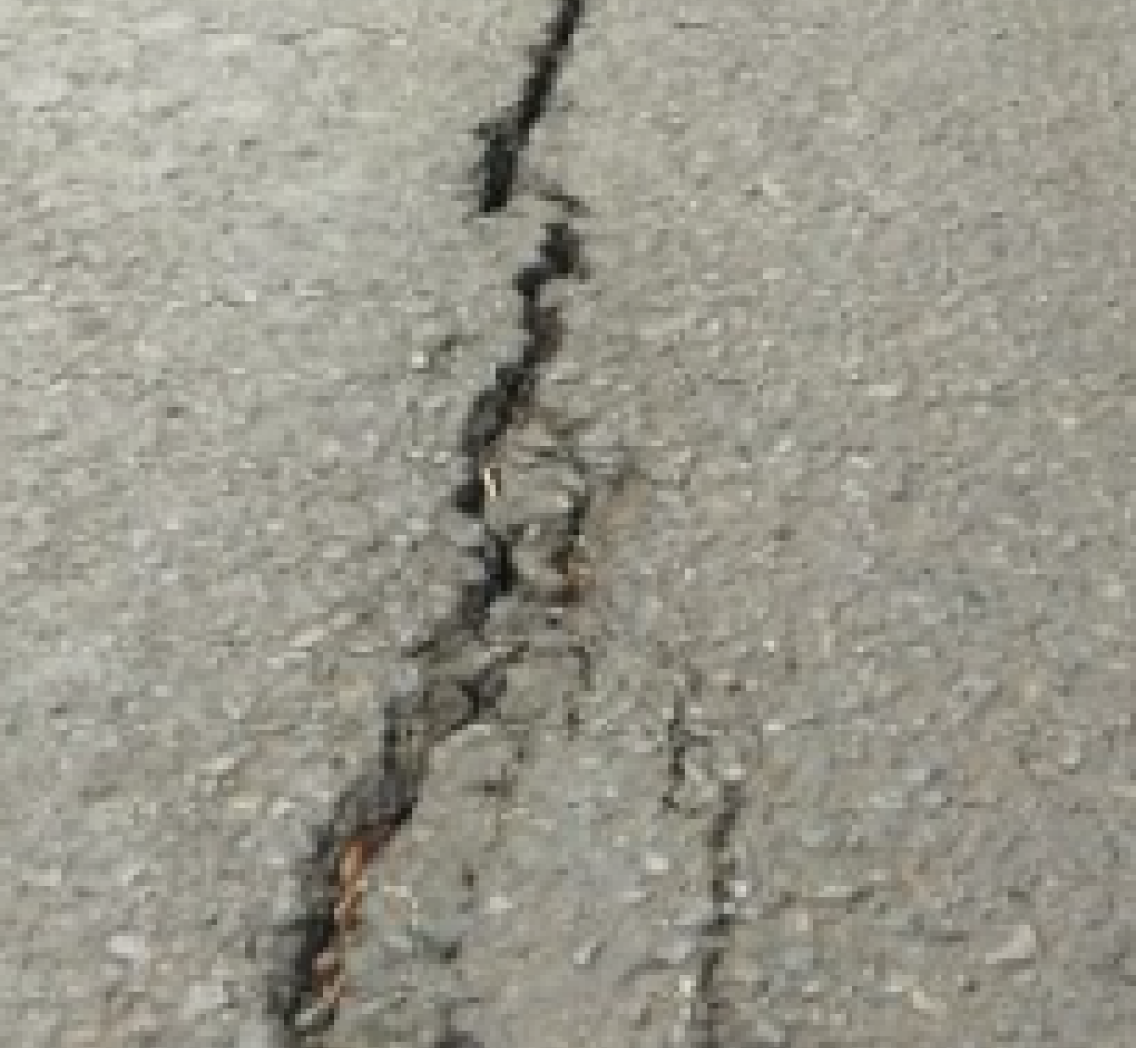Retak Memanjang: (423, 4, 634, 753), (256, 683, 458, 1048), (632, 619, 776, 1048)
